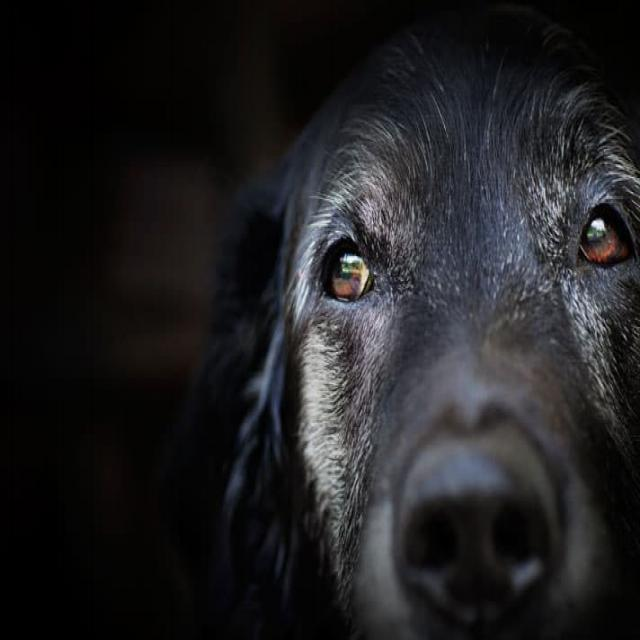eye: (568, 196, 638, 279), (317, 235, 381, 308)
